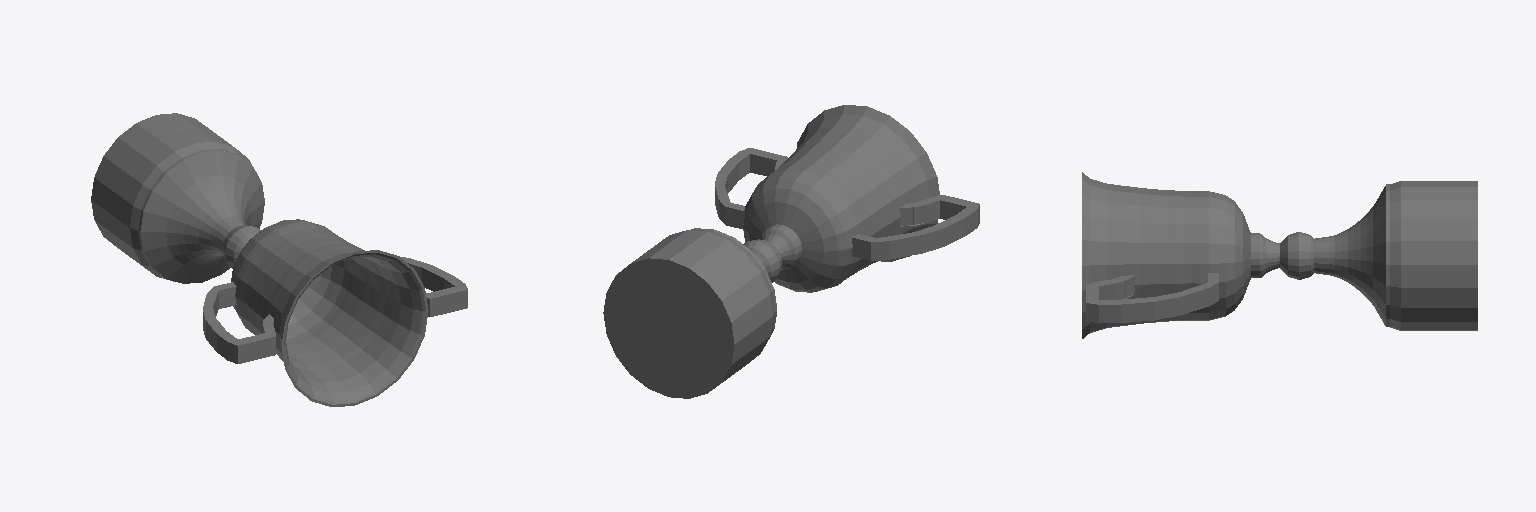
File: cup.obj
3 views of the same model, side by side, from view 1: azimuth 30°, elevation 25°; view 2: azimuth 150°, elevation 25°; view 3: azimuth 270°, elevation 25° (orthographic).
Parts seen in each view (by area): view 1: 1.003; view 2: 1.003; view 3: 1.003.
Part boxes in pixels (bbox=[...]): 1.003: bbox=[91, 113, 467, 406]; 1.003: bbox=[603, 105, 979, 398]; 1.003: bbox=[1082, 172, 1477, 338].
Size of the model in its own units: 0.7237 by 0.4477 by 1.05.